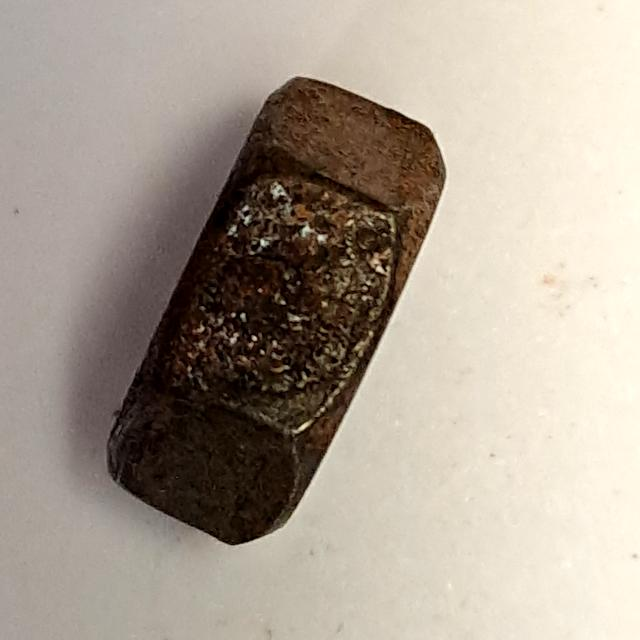Side_Rust: (94, 64, 457, 558)
